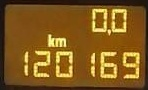-: (105, 27, 110, 36)
0: (54, 50, 73, 77), (90, 8, 107, 32), (110, 7, 126, 32)
1: (22, 48, 29, 75), (89, 51, 95, 77)
2: (31, 49, 50, 77)
6: (98, 50, 117, 78)
9: (121, 50, 139, 79)
X: (54, 35, 66, 45), (46, 33, 54, 47)
